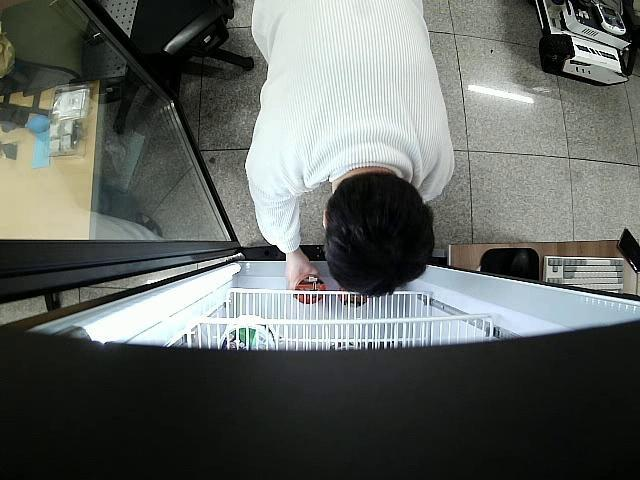02_shinRamen_S: (294, 276, 325, 303)
